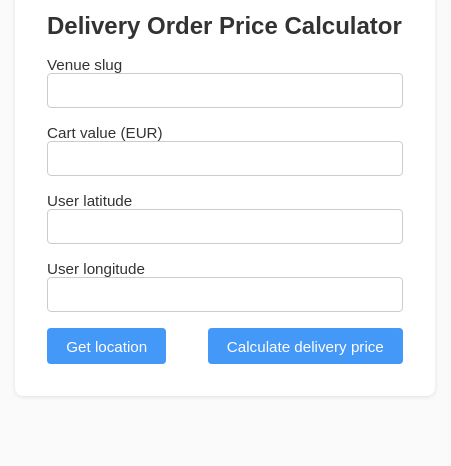
Test: Geolocation tests › should show an error if geolocation is not supported
Click the button with test id "getLocation": (107, 346) [47,328,166,364]
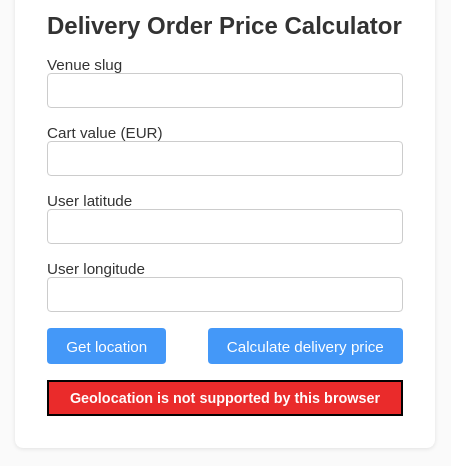
Result: the text "Geolocation is not supported by this browser" is shown at [47,380,403,416]
